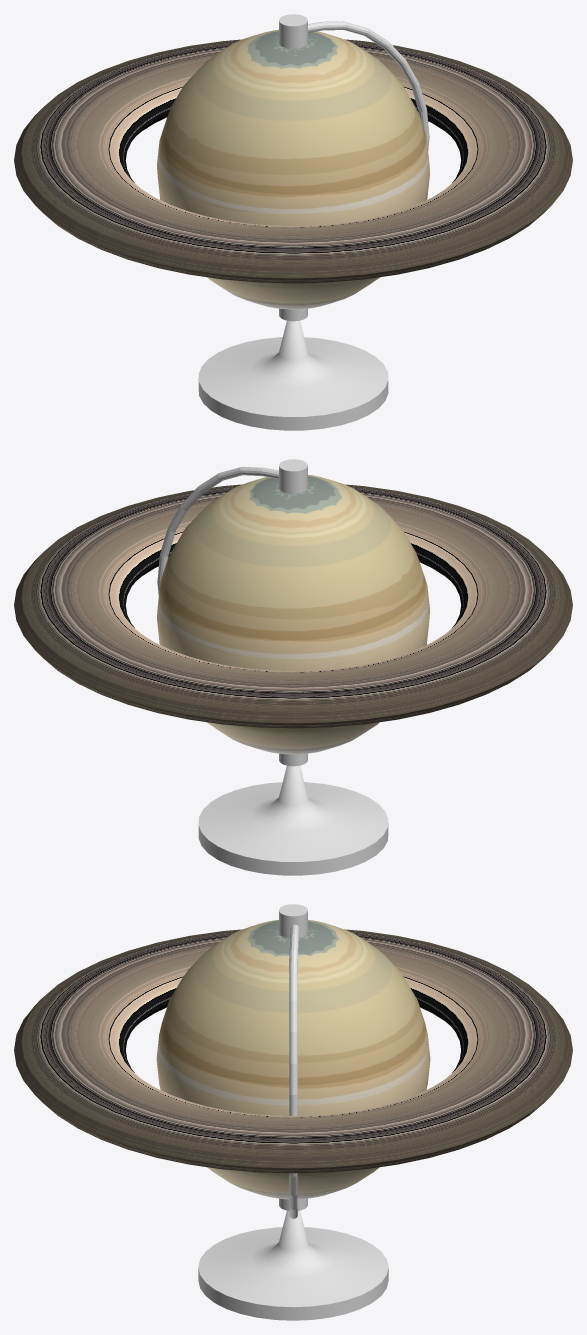
Rendered from Saturn.fbx.
The picture shows the model from 3 angles, top to bottom: view 1: azimuth 30°, elevation 25°; view 2: azimuth 150°, elevation 25°; view 3: azimuth 270°, elevation 25°; orthographic projection.
Visible parts, largest first — view 1: Torus, Sphere, Cylinder, Curve; view 2: Torus, Sphere, Cylinder, Curve; view 3: Torus, Sphere, Cylinder, Curve.
Part boxes in pixels (<box>): Torus: <box>14,39,572,283</box>; Sphere: <box>157,29,429,309</box>; Cylinder: <box>198,14,388,430</box>; Curve: <box>308,21,429,150</box>; Torus: <box>14,484,572,728</box>; Sphere: <box>157,474,429,754</box>; Cylinder: <box>198,459,388,875</box>; Curve: <box>157,466,278,595</box>; Torus: <box>14,929,572,1173</box>; Sphere: <box>156,920,430,1199</box>; Cylinder: <box>198,904,388,1320</box>; Curve: <box>289,924,299,1218</box>.
Size of the model in its own units: 38.77 by 28.33 by 38.77.
Materials: 3 (2 with a texture image).
